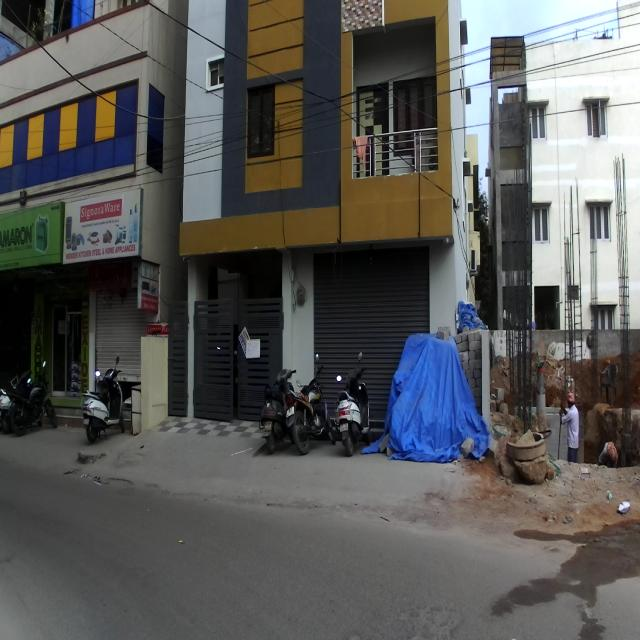motorcycle ahead at: (287, 351, 331, 454), (334, 348, 375, 455), (84, 356, 124, 436)
stones ahead at: (505, 428, 555, 492)
